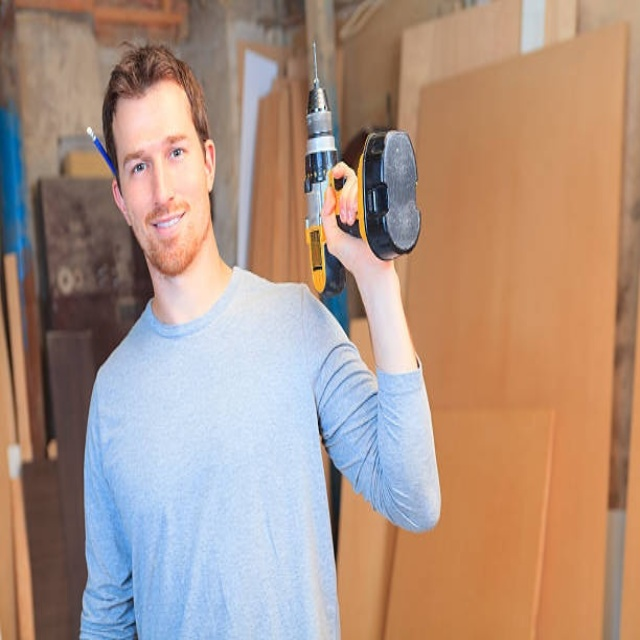Sin_gafas: (121, 124, 193, 184)
Sin_guantes: (323, 160, 369, 271)
Sin_mascara: (142, 204, 193, 254)
